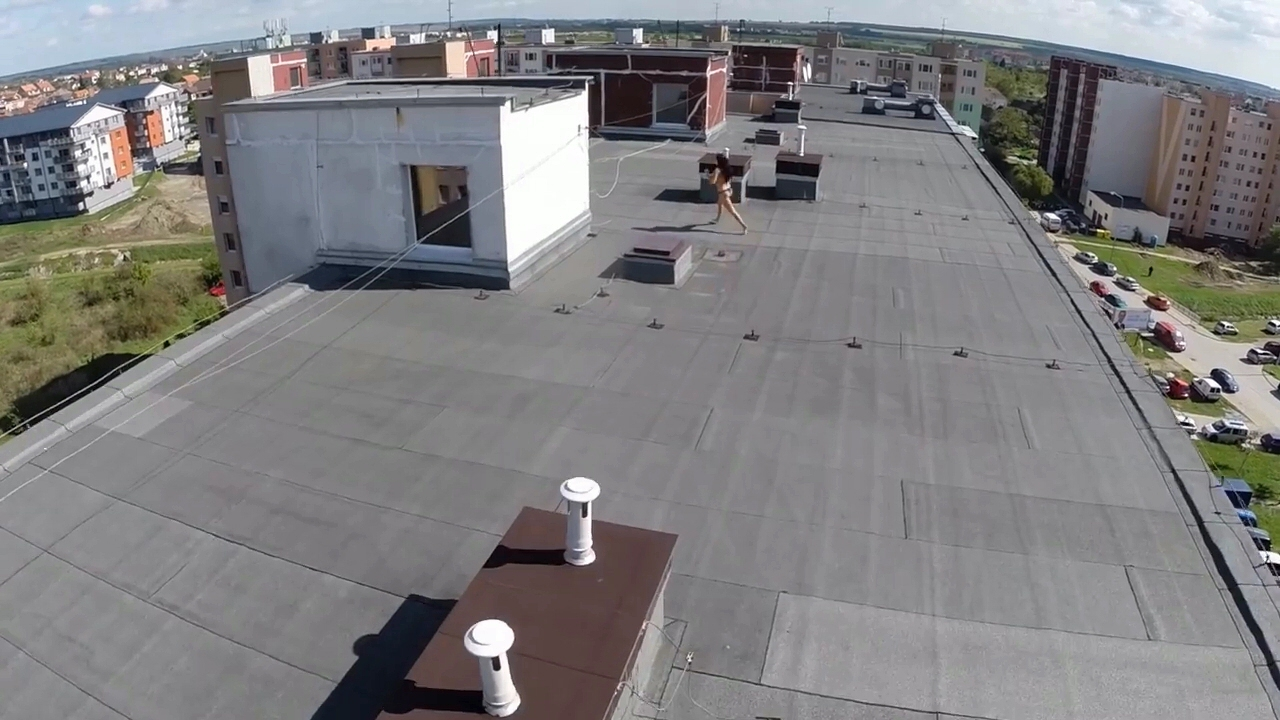araba: (1202, 417, 1251, 447), (1151, 316, 1188, 353), (1209, 365, 1243, 390), (1144, 292, 1179, 313), (1191, 374, 1219, 398), (1115, 269, 1144, 289), (1093, 259, 1119, 276), (1077, 246, 1099, 263)
insan: (700, 155, 757, 234)
